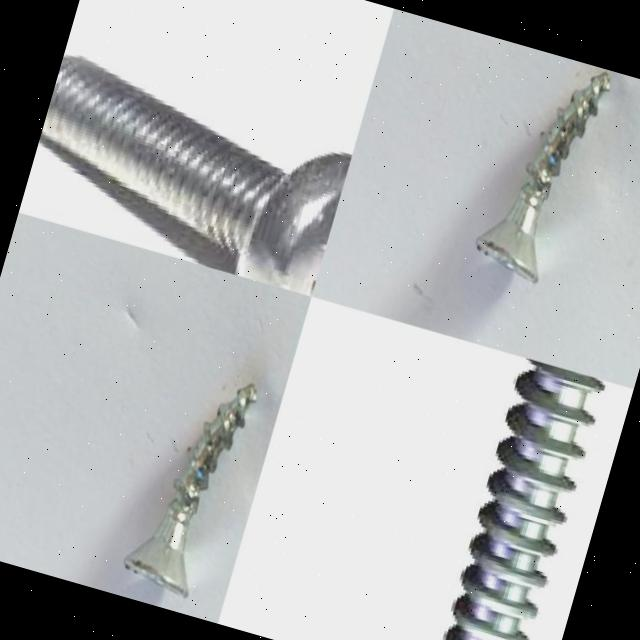Screw: (41, 56, 351, 296), (443, 358, 605, 640), (475, 71, 609, 282), (124, 383, 256, 597)
